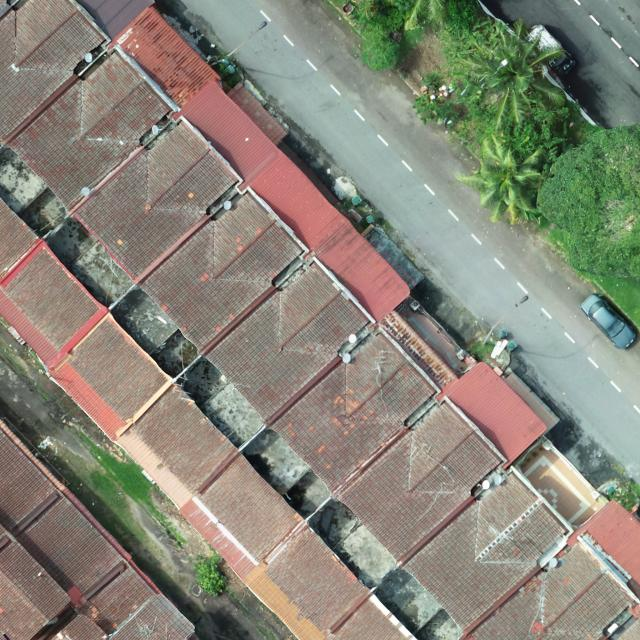tree: (536, 123, 640, 278), (459, 18, 565, 124), (456, 133, 548, 225), (496, 105, 570, 162), (361, 30, 401, 72), (195, 564, 228, 596), (446, 0, 481, 27)
